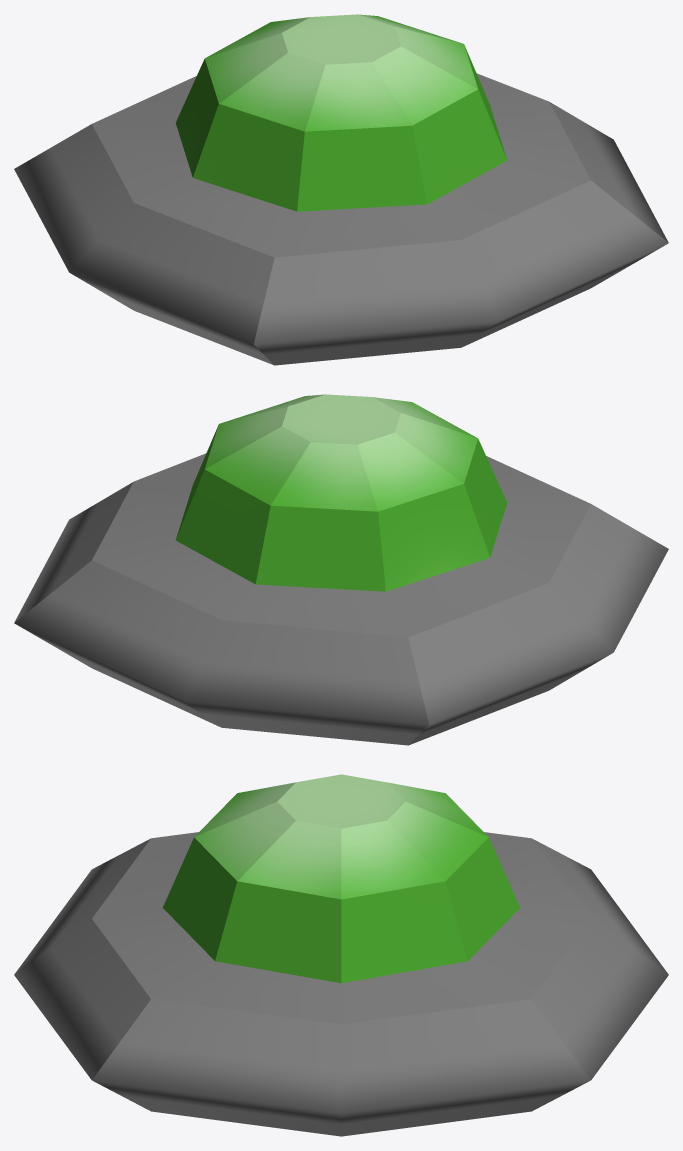
Rendered from spaceship.fbx.
3 views of the same model, one above another, from view 1: azimuth 30°, elevation 25°; view 2: azimuth 150°, elevation 25°; view 3: azimuth 270°, elevation 25° (orthographic). The views are drawn at different scales.
Parts seen in each view (by area): view 1: mocapobjects.008; view 2: mocapobjects.008; view 3: mocapobjects.008.
Part boxes in pixels (x1=…): mocapobjects.008: x1=14, y1=14, x2=668, y2=365; mocapobjects.008: x1=14, y1=394, x2=668, y2=745; mocapobjects.008: x1=14, y1=774, x2=668, y2=1136.
Bounding box in the file's own units: 264 × 112 × 264.
